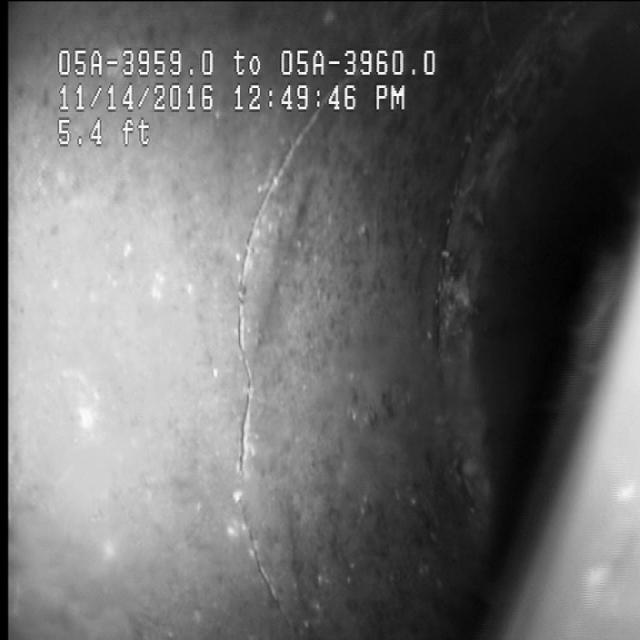Crack: (204, 163, 298, 557)
